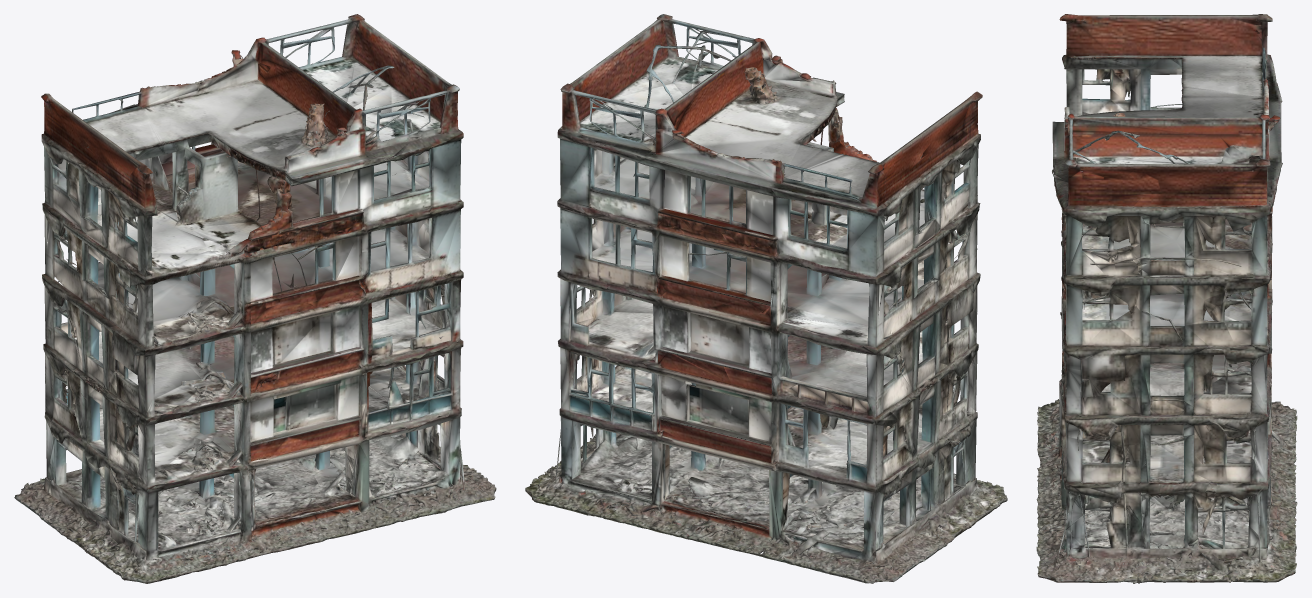
Rendered from skeleton_block.glb.
3 renders of one model, left to right at view 1: azimuth 30°, elevation 25°; view 2: azimuth 150°, elevation 25°; view 3: azimuth 270°, elevation 25°, orthographic.
Parts seen in each view (by area): view 1: skeleton_block; view 2: skeleton_block; view 3: skeleton_block.
Boxes of the visible parts, x1=… form: skeleton_block: x1=14, y1=14, x2=496, y2=583; skeleton_block: x1=525, y1=14, x2=1007, y2=583; skeleton_block: x1=1036, y1=14, x2=1297, y2=583.
Size of the model in its own units: 1.82 by 1.9 by 1.1.
1 material, 1 textured.
